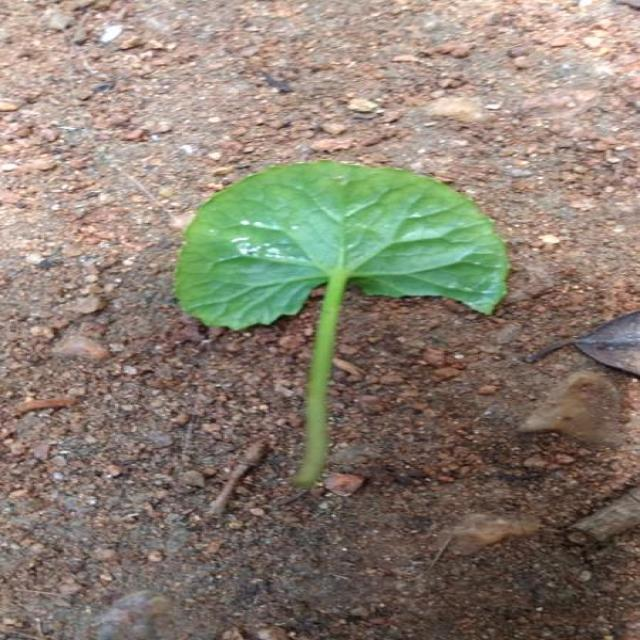bhrami: (175, 161, 508, 386)
